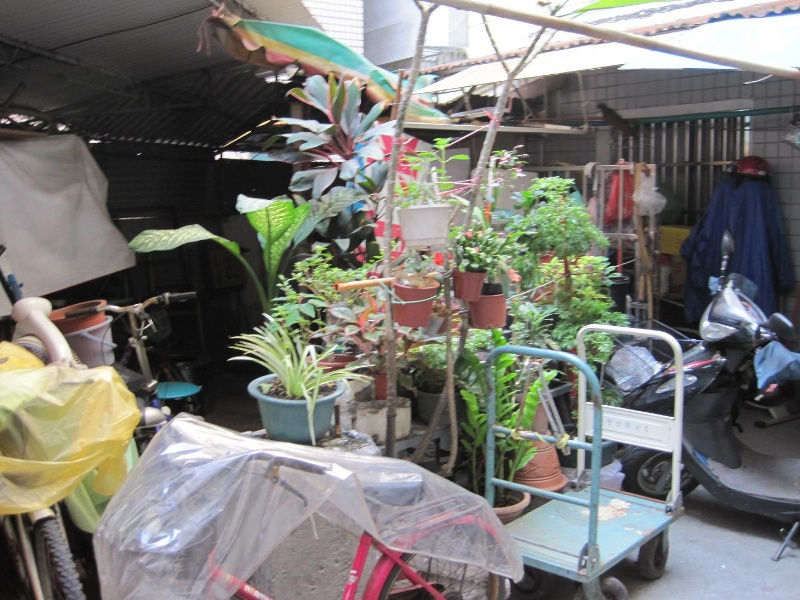plastic_bag: (95, 409, 525, 599), (197, 4, 457, 130), (1, 330, 149, 544)
